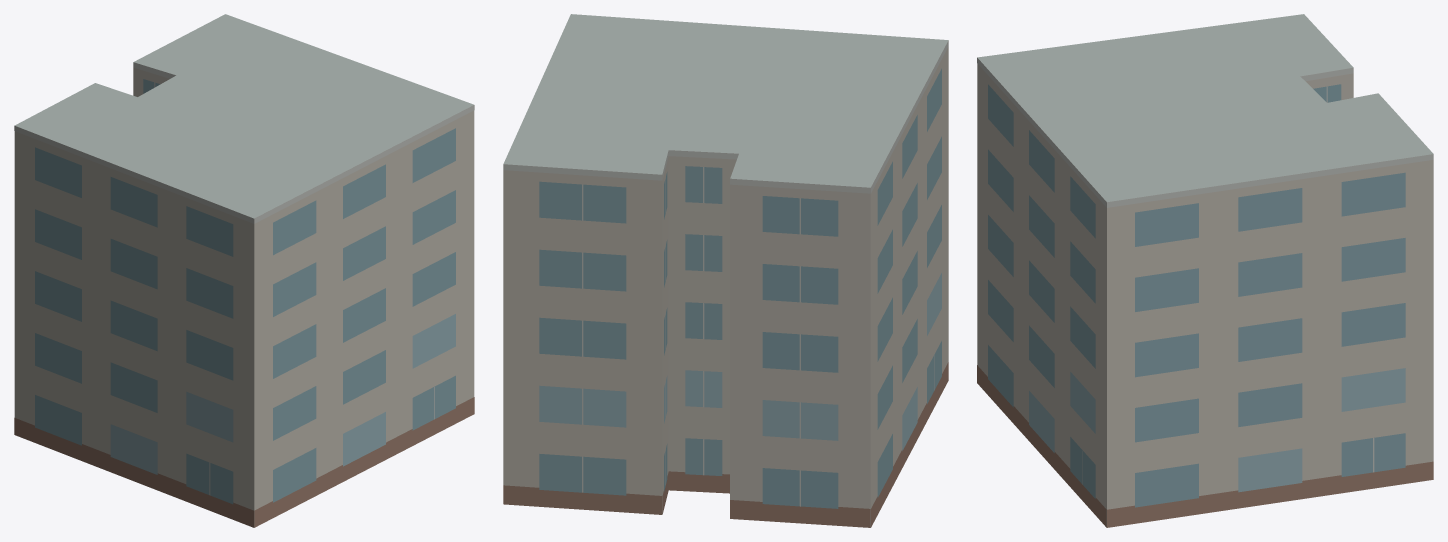
The model's file is survey-upis-32765756.glb.
3 renders of one model, left to right at view 1: azimuth 30°, elevation 25°; view 2: azimuth 150°, elevation 25°; view 3: azimuth 270°, elevation 25°, orthographic. The views are drawn at different scales.
Visible parts, largest first — view 1: survey-upis-32765756.tmp; view 2: survey-upis-32765756.tmp; view 3: survey-upis-32765756.tmp.
Boxes of the visible parts, bbox=[...] form: survey-upis-32765756.tmp: bbox=[14, 14, 474, 527]; survey-upis-32765756.tmp: bbox=[503, 14, 948, 527]; survey-upis-32765756.tmp: bbox=[977, 14, 1433, 527].
Bounding box in the file's own units: 17.24 × 13.9 × 17.67.
